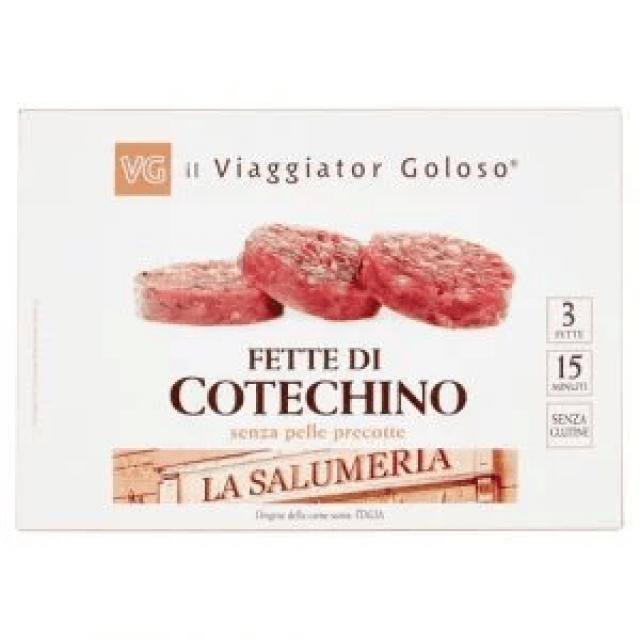Ham: (17, 109, 623, 533)
